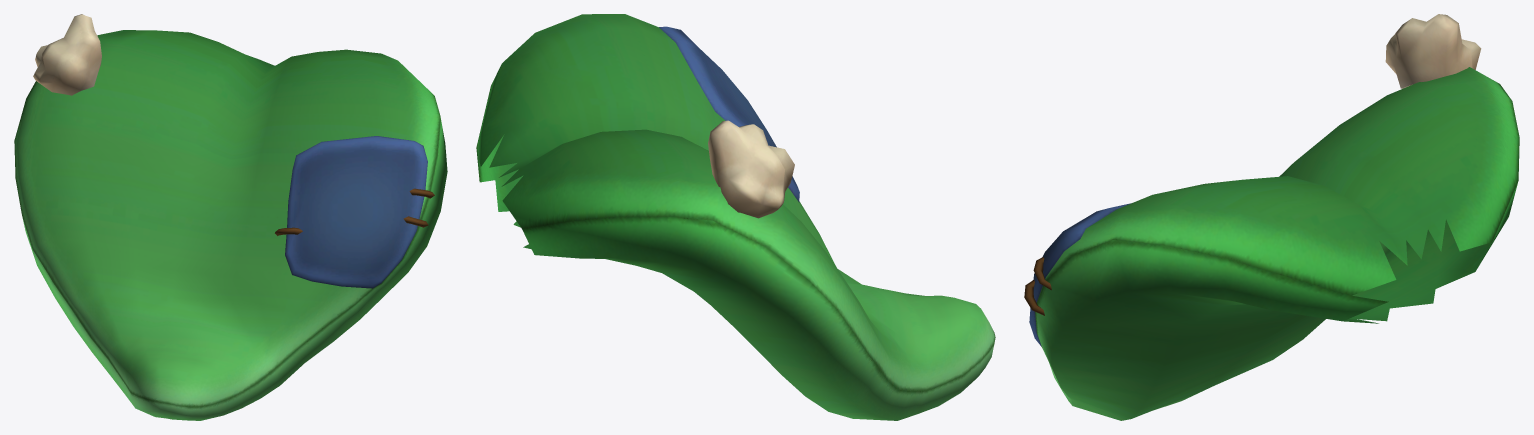
Rendered from stuffyflower_hoja_del_der.obj.
3 views of the same model, side by side, from view 1: azimuth 30°, elevation 25°; view 2: azimuth 150°, elevation 25°; view 3: azimuth 270°, elevation 25° (orthographic). The views are drawn at different scales.
Visible parts, largest first — view 1: stuffyflower_hoja_del_der; view 2: stuffyflower_hoja_del_der; view 3: stuffyflower_hoja_del_der.
Boxes of the visible parts, x1,y1,x2,y2 form: stuffyflower_hoja_del_der: (14,14,447,420); stuffyflower_hoja_del_der: (476,14,995,420); stuffyflower_hoja_del_der: (1024,14,1519,420).
Bounding box in the file's own units: 0.4035 × 0.3469 × 0.403.
